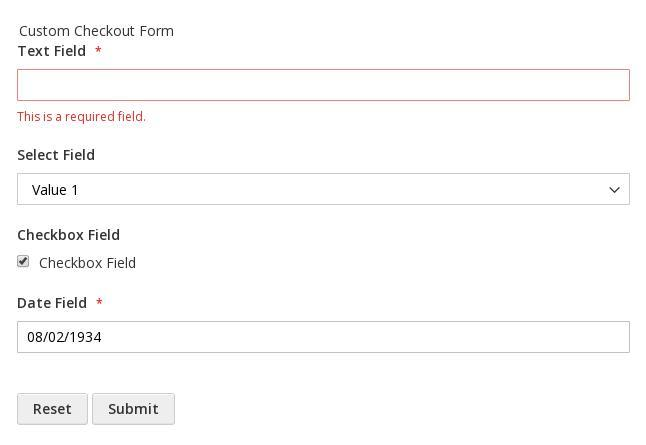button: (94, 395, 176, 426), (18, 394, 89, 426)
checkbox: (17, 256, 31, 268)
dropdown: (18, 174, 631, 207)
input: (18, 321, 630, 353), (18, 70, 631, 101)
label: (21, 25, 181, 40), (18, 42, 105, 65), (16, 296, 108, 313), (19, 228, 126, 242), (40, 256, 139, 271), (16, 146, 99, 163)
